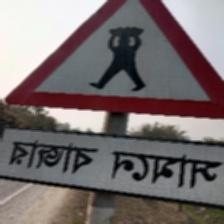Market-in-front: (1, 0, 222, 213)
